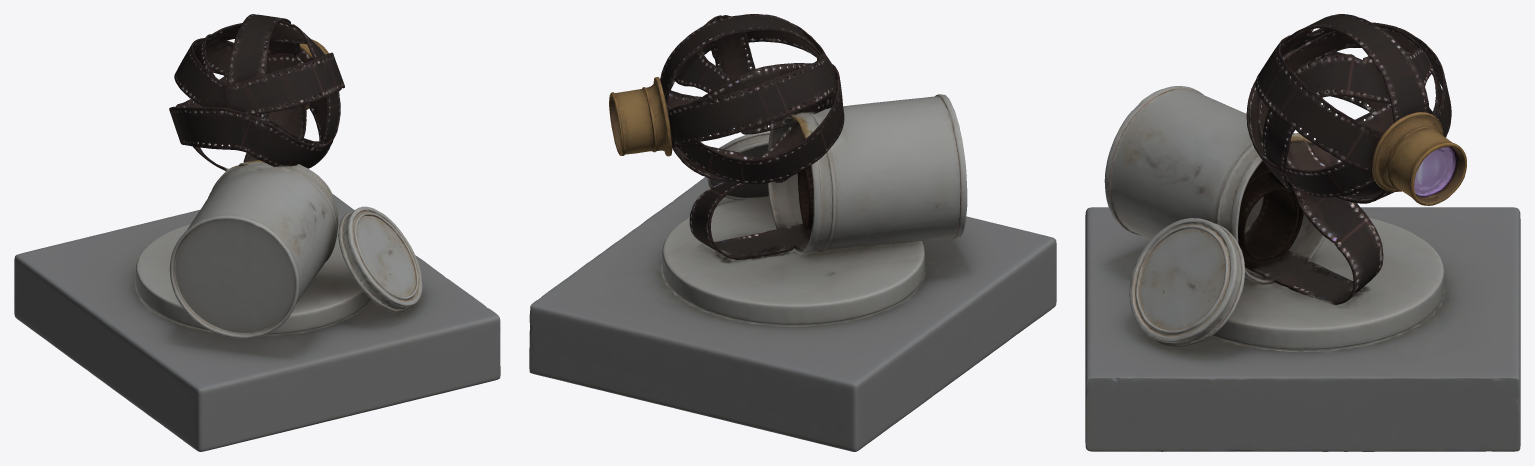
Rendered from 28e-paramount.glb.
The picture shows the model from 3 angles, left to right: view 1: azimuth 30°, elevation 25°; view 2: azimuth 150°, elevation 25°; view 3: azimuth 270°, elevation 25°; orthographic projection. The views are drawn at different scales.
Parts seen in each view (by area): view 1: tripo_node_1178fa11-0b72-4ddb-94ec-5dafd4144a8e; view 2: tripo_node_1178fa11-0b72-4ddb-94ec-5dafd4144a8e; view 3: tripo_node_1178fa11-0b72-4ddb-94ec-5dafd4144a8e.
Boxes of the visible parts, x1,y1,x2,y2 form: tripo_node_1178fa11-0b72-4ddb-94ec-5dafd4144a8e: [14, 14, 500, 451]; tripo_node_1178fa11-0b72-4ddb-94ec-5dafd4144a8e: [529, 14, 1056, 451]; tripo_node_1178fa11-0b72-4ddb-94ec-5dafd4144a8e: [1085, 14, 1520, 451].
Bounding box in the file's own units: 0.9352 × 0.8995 × 1.
Materials: 1 (1 with a texture image).
